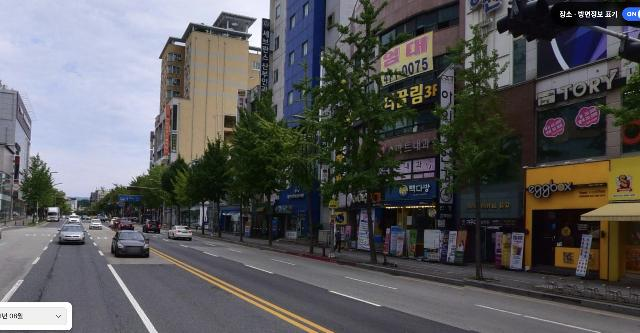other: (299, 0, 430, 265), (432, 21, 521, 281), (217, 83, 314, 248), (184, 130, 239, 239), (150, 152, 204, 235), (17, 153, 63, 225), (131, 166, 164, 226), (102, 182, 133, 225), (56, 193, 75, 222)
